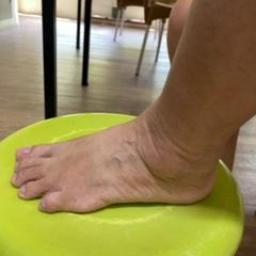Lateral View -Left Foot-: (3, 90, 250, 218)
